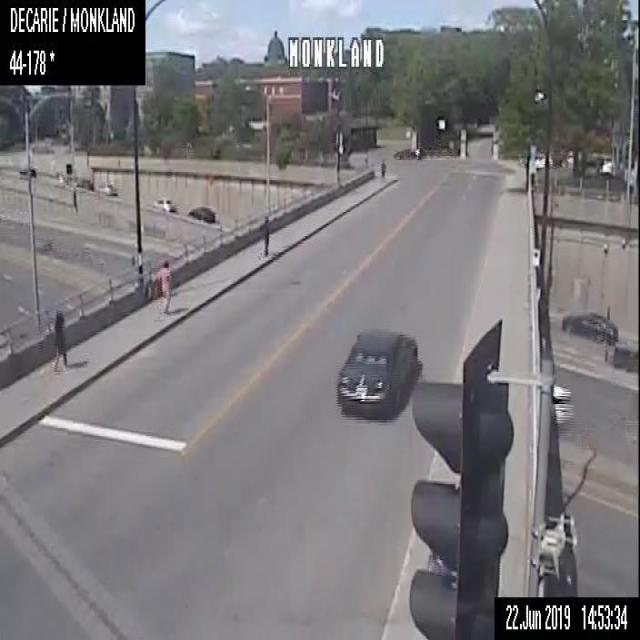pedestrian: (52, 306, 67, 371), (157, 256, 172, 313), (379, 156, 386, 177)
vehicle: (334, 325, 422, 420), (560, 310, 618, 346), (551, 381, 568, 424), (187, 204, 216, 224), (393, 144, 422, 160), (152, 193, 175, 212), (98, 183, 118, 197), (74, 177, 92, 190), (31, 167, 36, 176)
